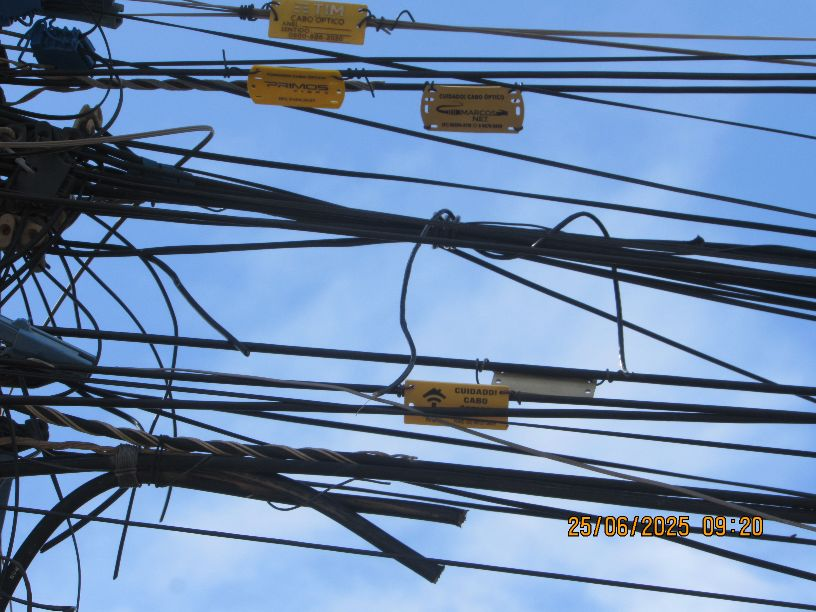cabo_partido: (171, 462, 562, 594)
fibra_optica: (25, 145, 714, 300), (109, 305, 624, 453), (13, 438, 556, 553), (82, 56, 587, 150), (108, 0, 417, 52)
